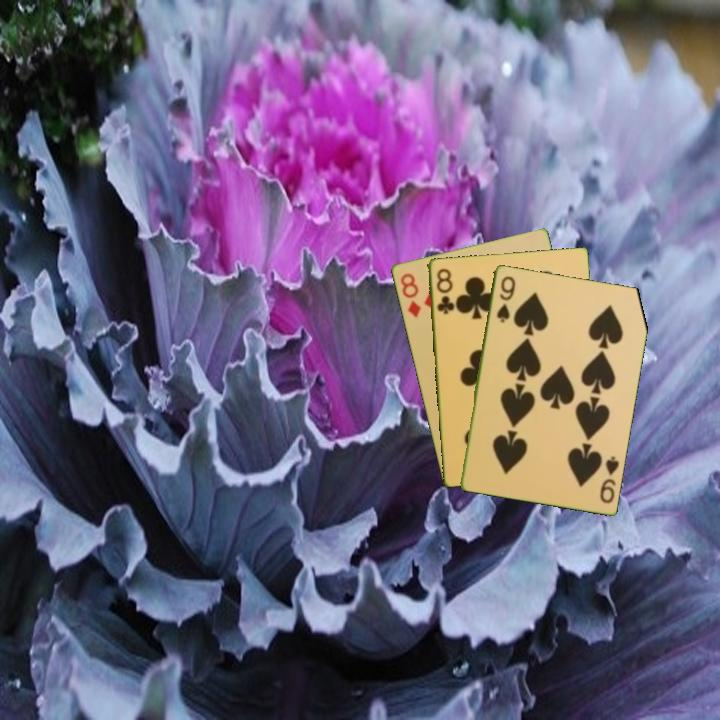8c: (432, 265, 456, 317)
8d: (397, 269, 423, 321)
9s: (596, 452, 622, 506), (493, 272, 518, 325)
